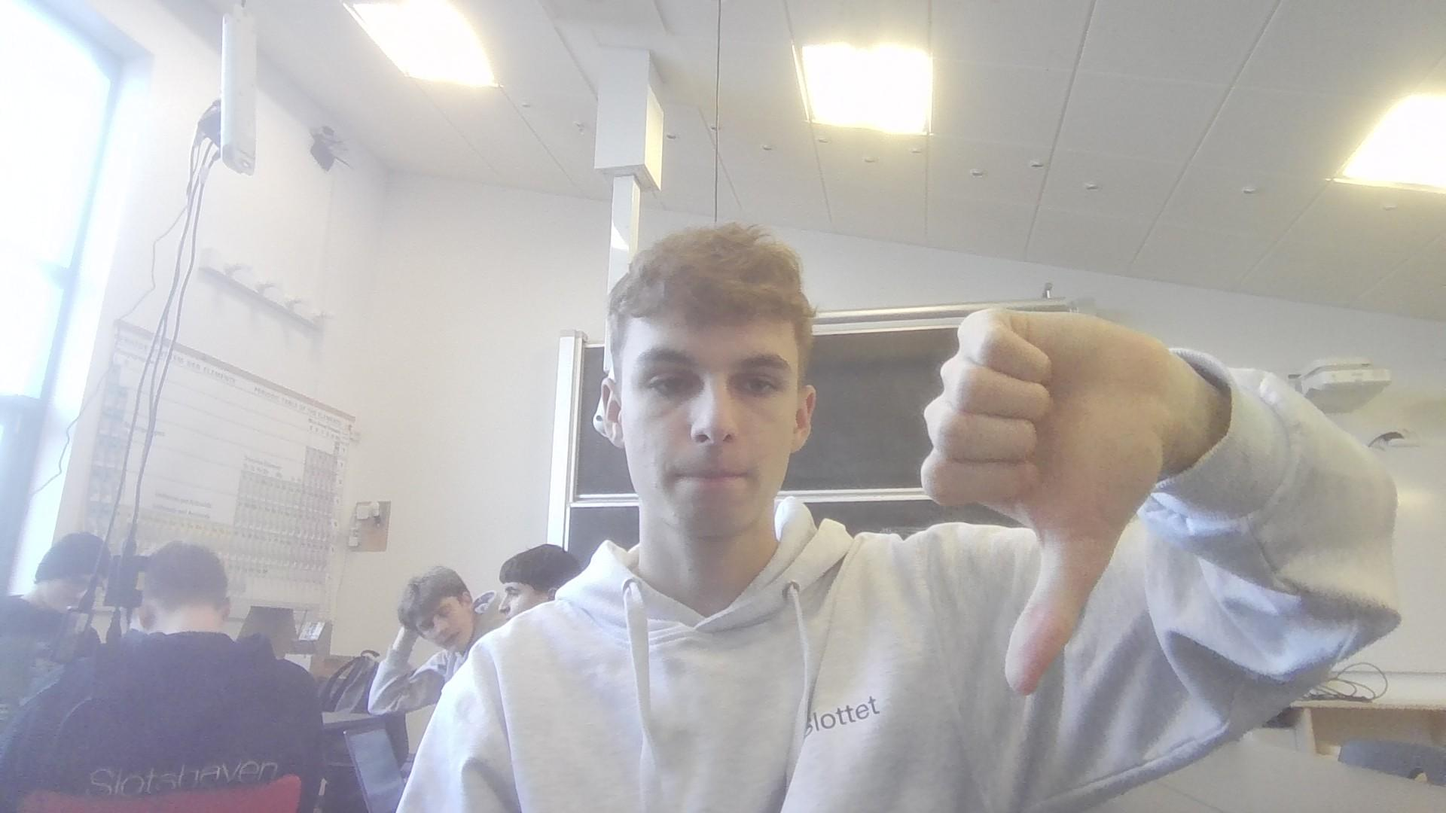thumbs down: (913, 298, 1173, 701)
